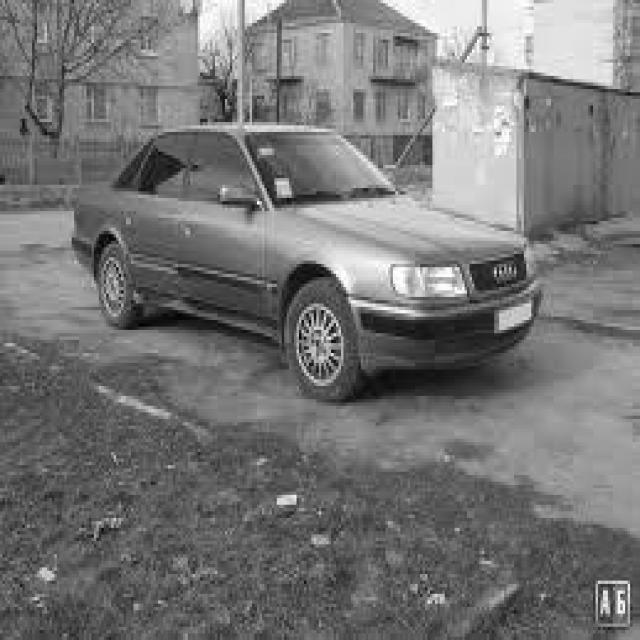car: (69, 119, 544, 399)
